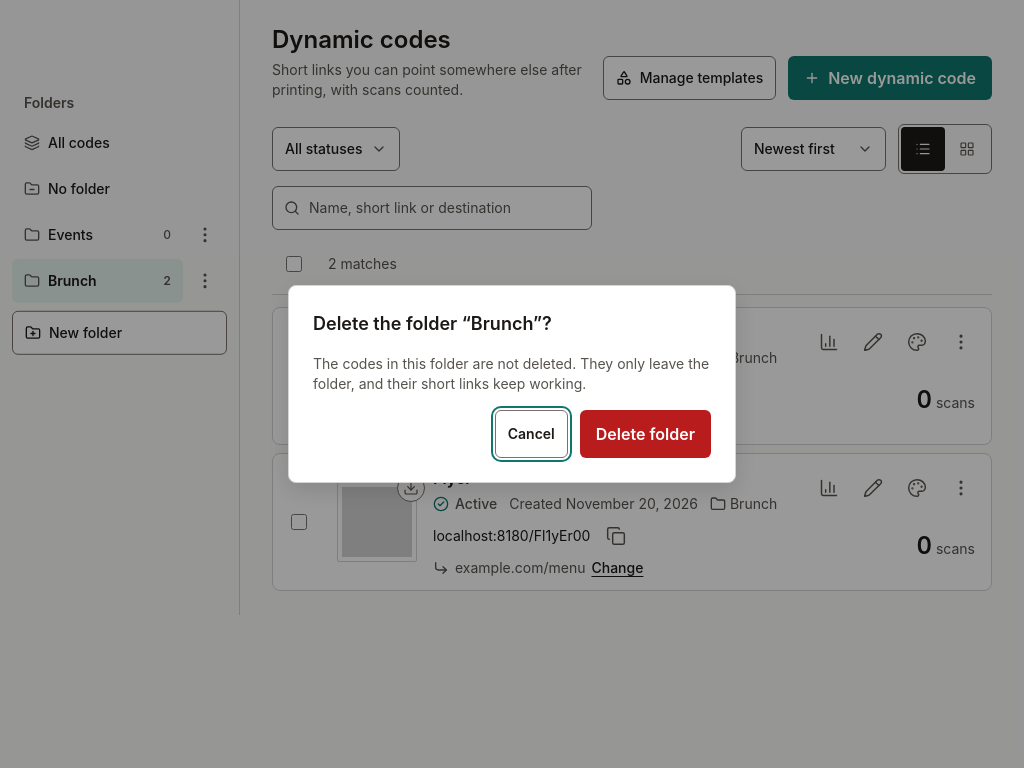
Scenario: managing folders › switches to all codes after deleting the selected folder
Earlier steps of the test are not shown.
Step 1. Click the button "Delete folder" → (645, 434), box [580,410,711,458]
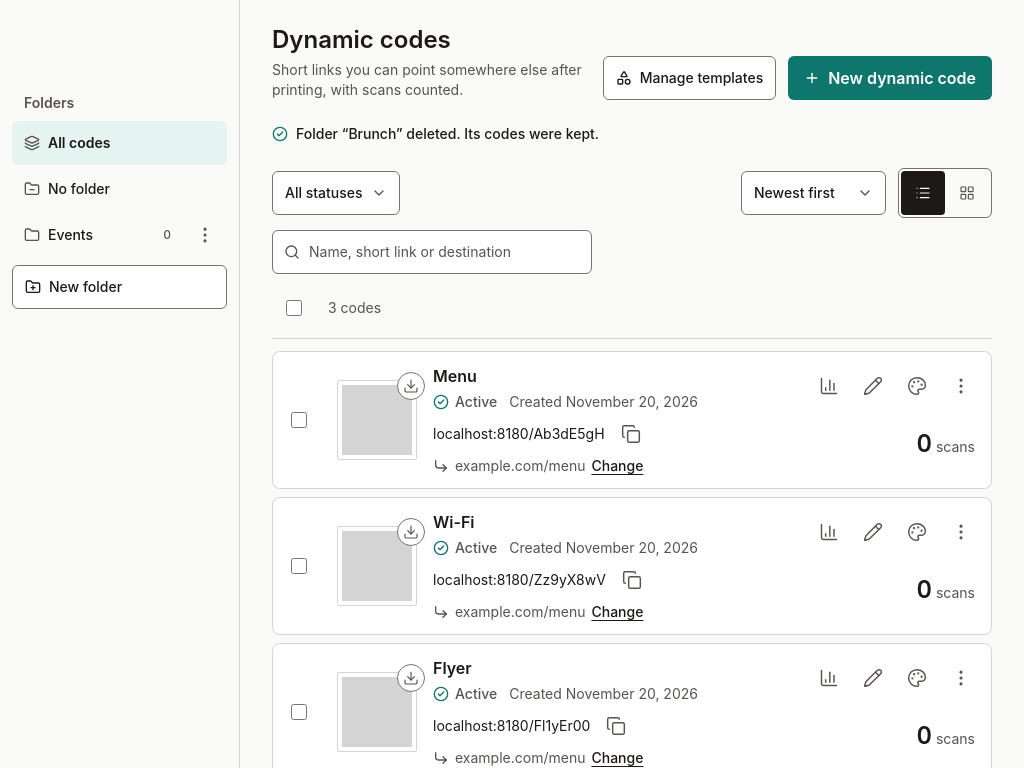
expect the button "All codes" is marked as current: met, box [12,121,227,165]
